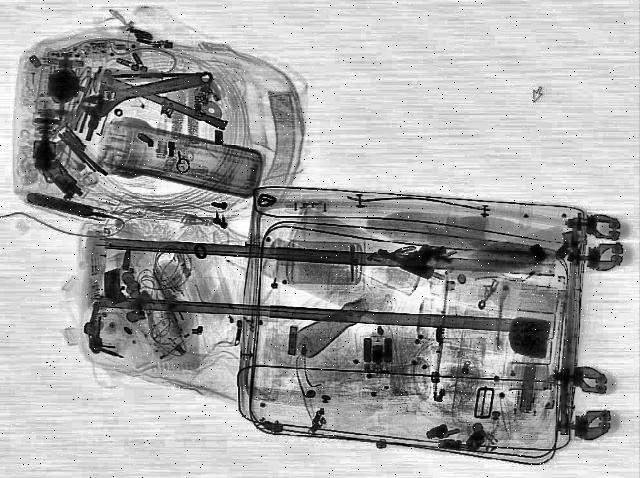Wrench: (72, 58, 222, 122)
